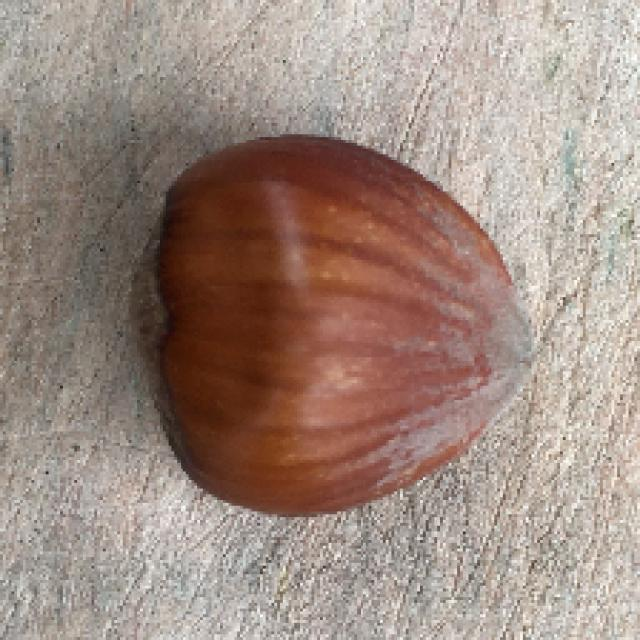qualityHazelnut: (128, 133, 534, 522)
